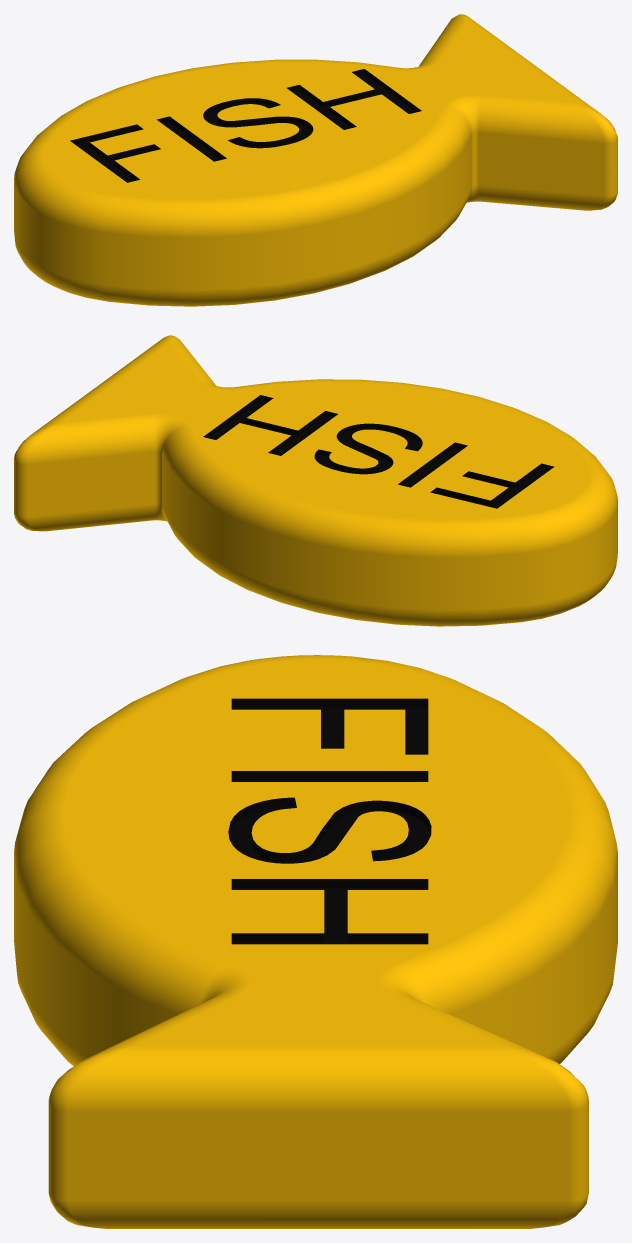
Rendered from fish.glb.
3 views of the same model, one above another, from view 1: azimuth 30°, elevation 25°; view 2: azimuth 150°, elevation 25°; view 3: azimuth 270°, elevation 25° (orthographic). The views are drawn at different scales.
Parts seen in each view (by area): view 1: root; view 2: root; view 3: root.
Boxes of the visible parts, left/top/right/bottom form: root: left=14, top=14, right=617, bottom=306; root: left=14, top=335, right=617, bottom=626; root: left=14, top=655, right=617, bottom=1228.
Bounding box in the file's own units: 1.03 × 0.2 × 0.6133.
